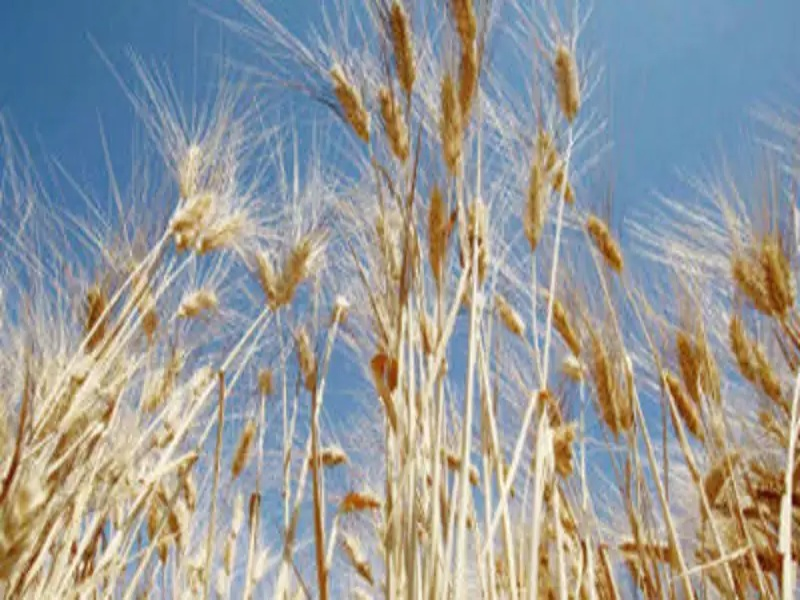wheat: (317, 1, 508, 442), (648, 213, 798, 584), (558, 200, 673, 594), (503, 1, 631, 334), (234, 195, 351, 485), (147, 114, 231, 427)
